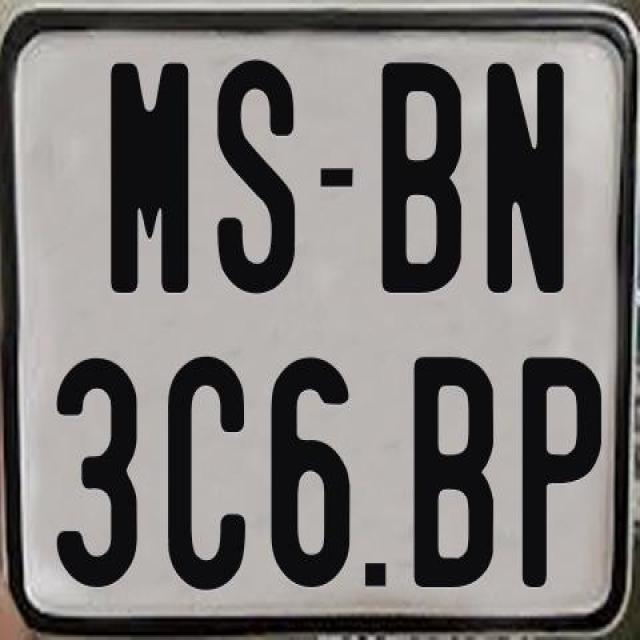3: (54, 358, 134, 594)
6: (270, 354, 358, 590)
B: (410, 357, 498, 597), (381, 58, 463, 298)
C: (166, 353, 250, 588)
M: (110, 62, 188, 298)
N: (486, 61, 568, 296)
P: (522, 356, 604, 590)
S: (217, 54, 296, 290)
